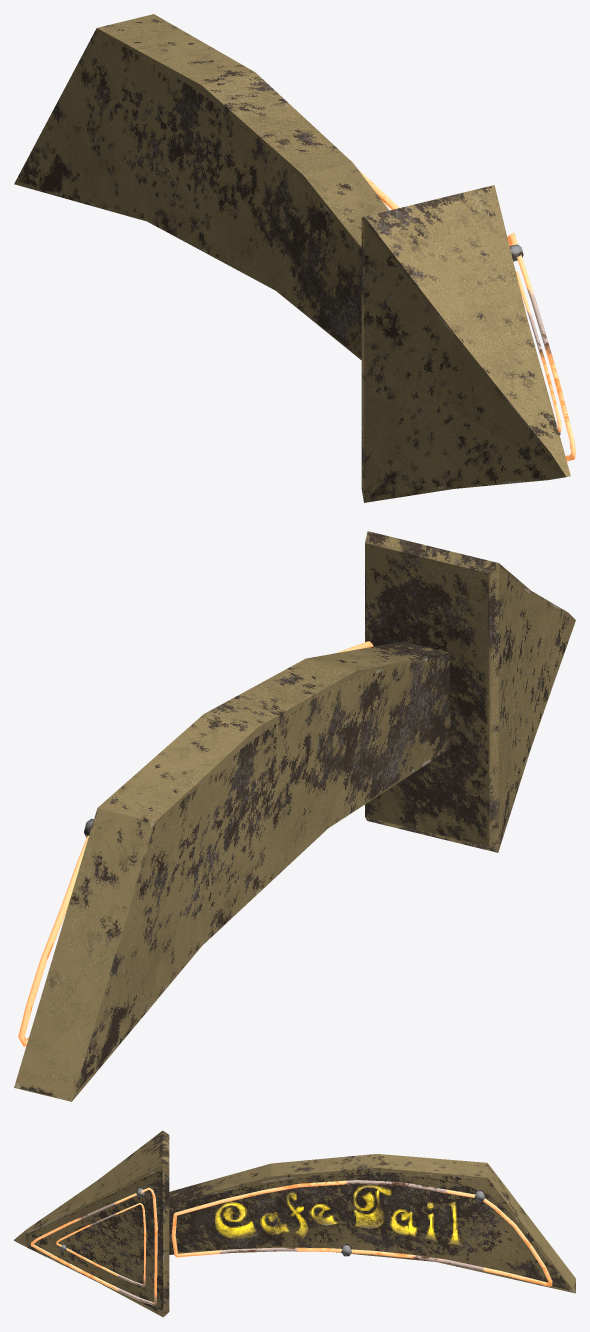
The model's file is Arrow_Cafe.fbx.
3 renders of one model, top to bottom at view 1: azimuth 30°, elevation 25°; view 2: azimuth 150°, elevation 25°; view 3: azimuth 270°, elevation 25°, orthographic. The views are drawn at different scales.
Visible parts, largest first — view 1: Cube.004; view 2: Cube.004; view 3: Cube.004.
Part boxes in pixels (x1,y1,x2,y2): Cube.004: (14, 14, 575, 502); Cube.004: (14, 531, 575, 1101); Cube.004: (14, 1130, 575, 1317).
Bounding box in the file's own units: 45.7 × 90.41 × 301.
